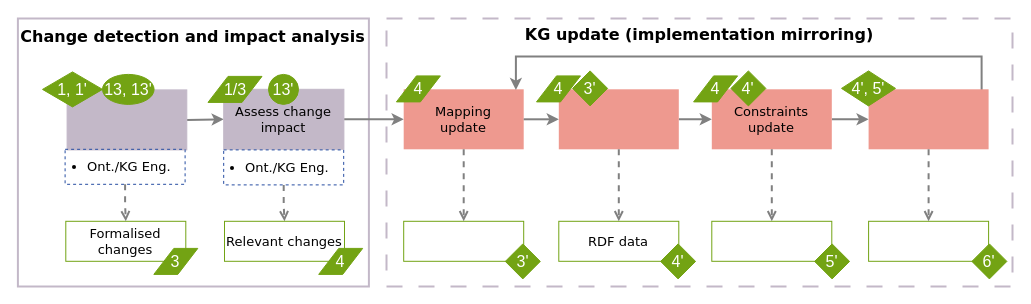
Some shapes in this 1031 by 304 pixel diagram are drawn without their labels. The centre of each missing label's shape, as x and y in pixels:
Constraints: the point at 771,240
Data update: the point at 618,119
Data validation: the point at 928,119
Detect delta (optional): the point at 126,119
Mappings: the point at 463,240
Validation report: the point at 928,240
